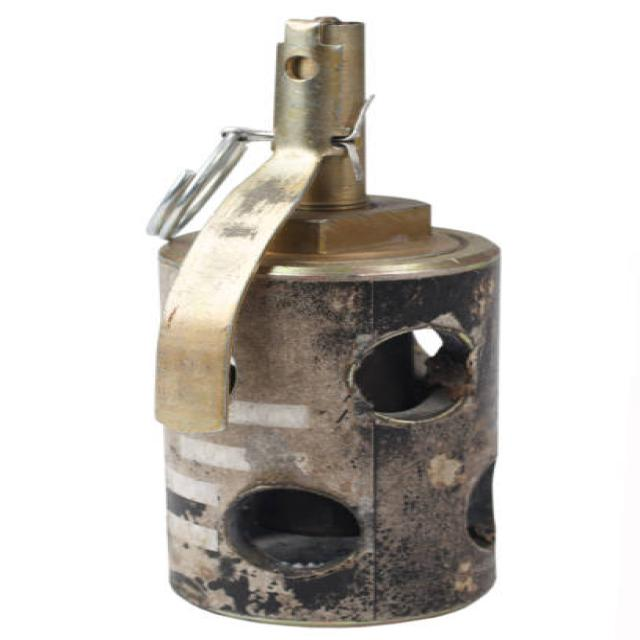grenade: (137, 1, 515, 637)
